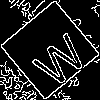W: (25, 25, 91, 91)
